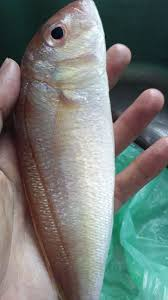Ikan Kerisi: (15, 1, 135, 300)
